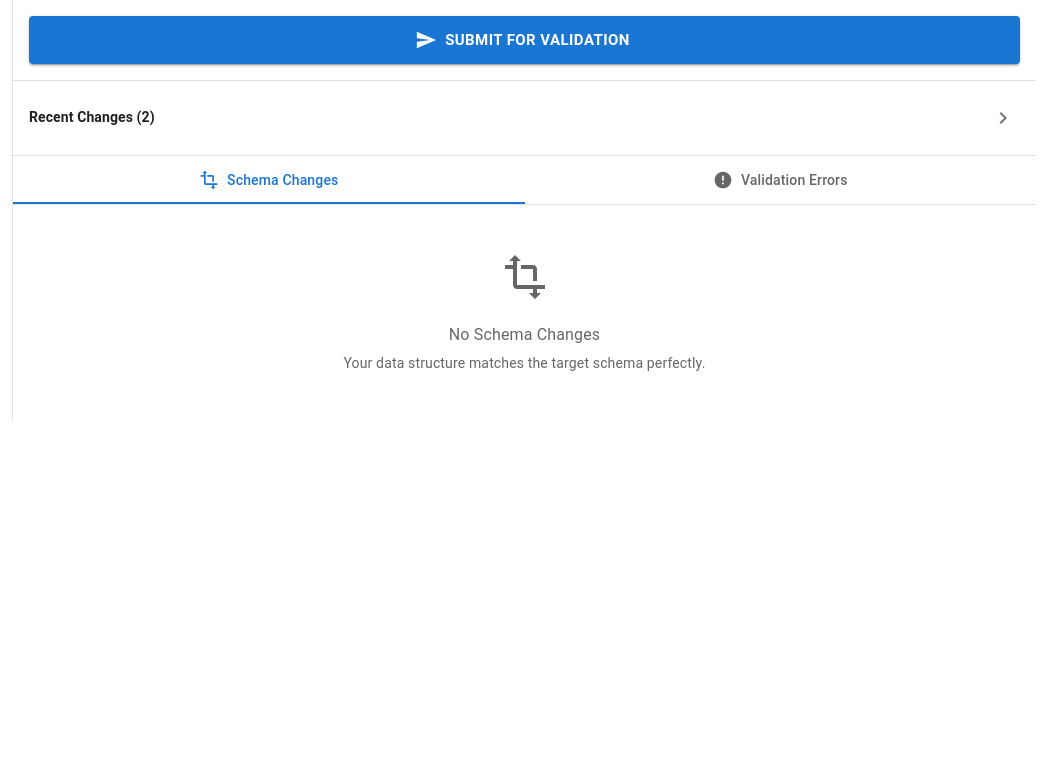
Test: ValidationSidebarComponent › displays recent changes correctly
The image size is (1048, 768).
Check: the heading "Recent Changes (2)" is shown, box left=29, top=107, right=155, bottom=129
// Recent Changes is collapsed by default, need to expand it
Click the button named "Expand Recent Changes section".
click(85, 117)  # box left=25, top=97, right=1024, bottom=139
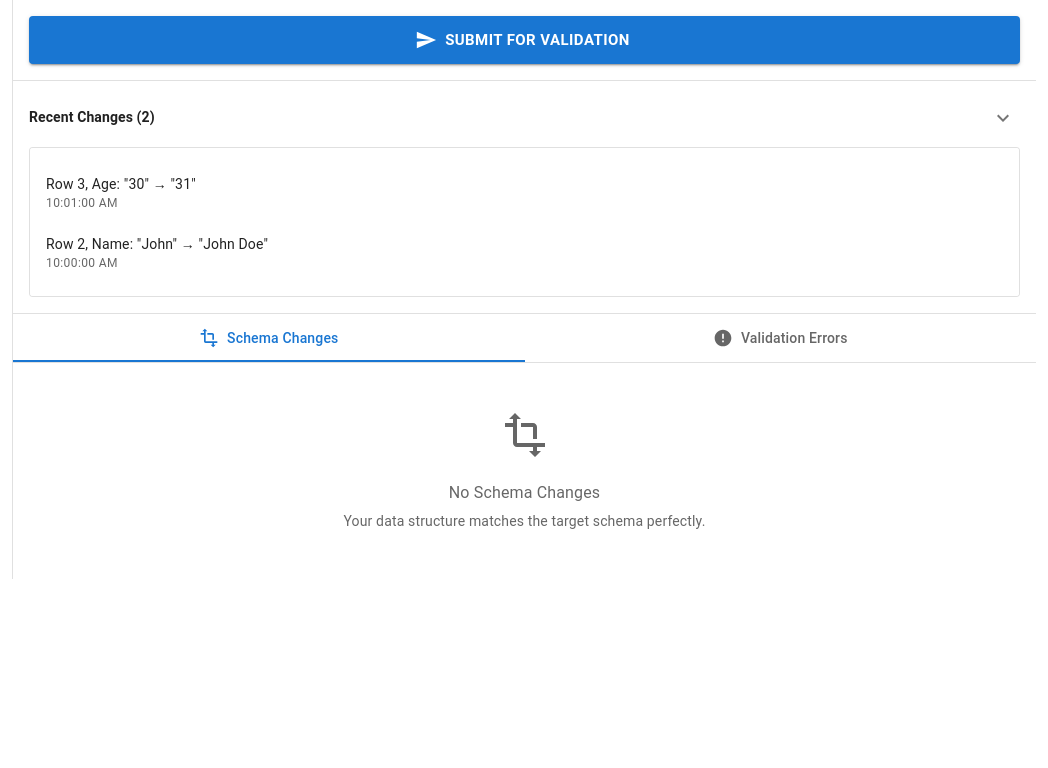
Check: the text "Row 2, Name: \"John\" → \"John Doe\"" is shown, box left=46, top=236, right=268, bottom=252
Check: the text "Row 3, Age: \"30\" → \"31\"" is shown, box left=46, top=176, right=196, bottom=192
